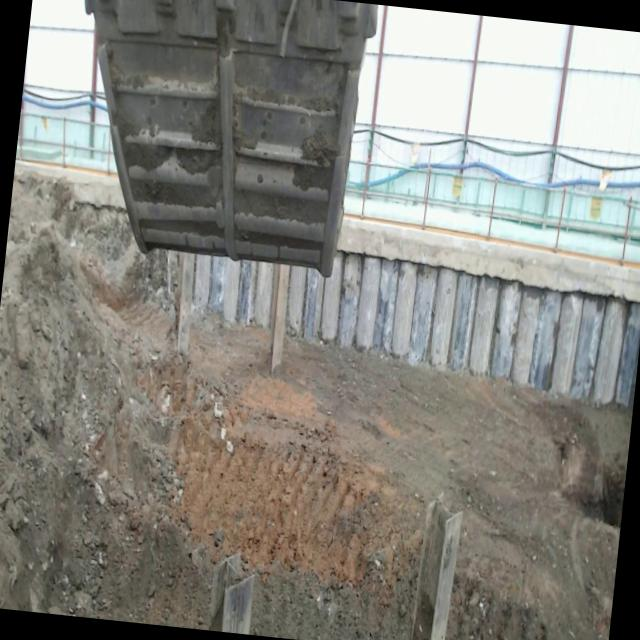white-sand: (0, 170, 632, 640)
